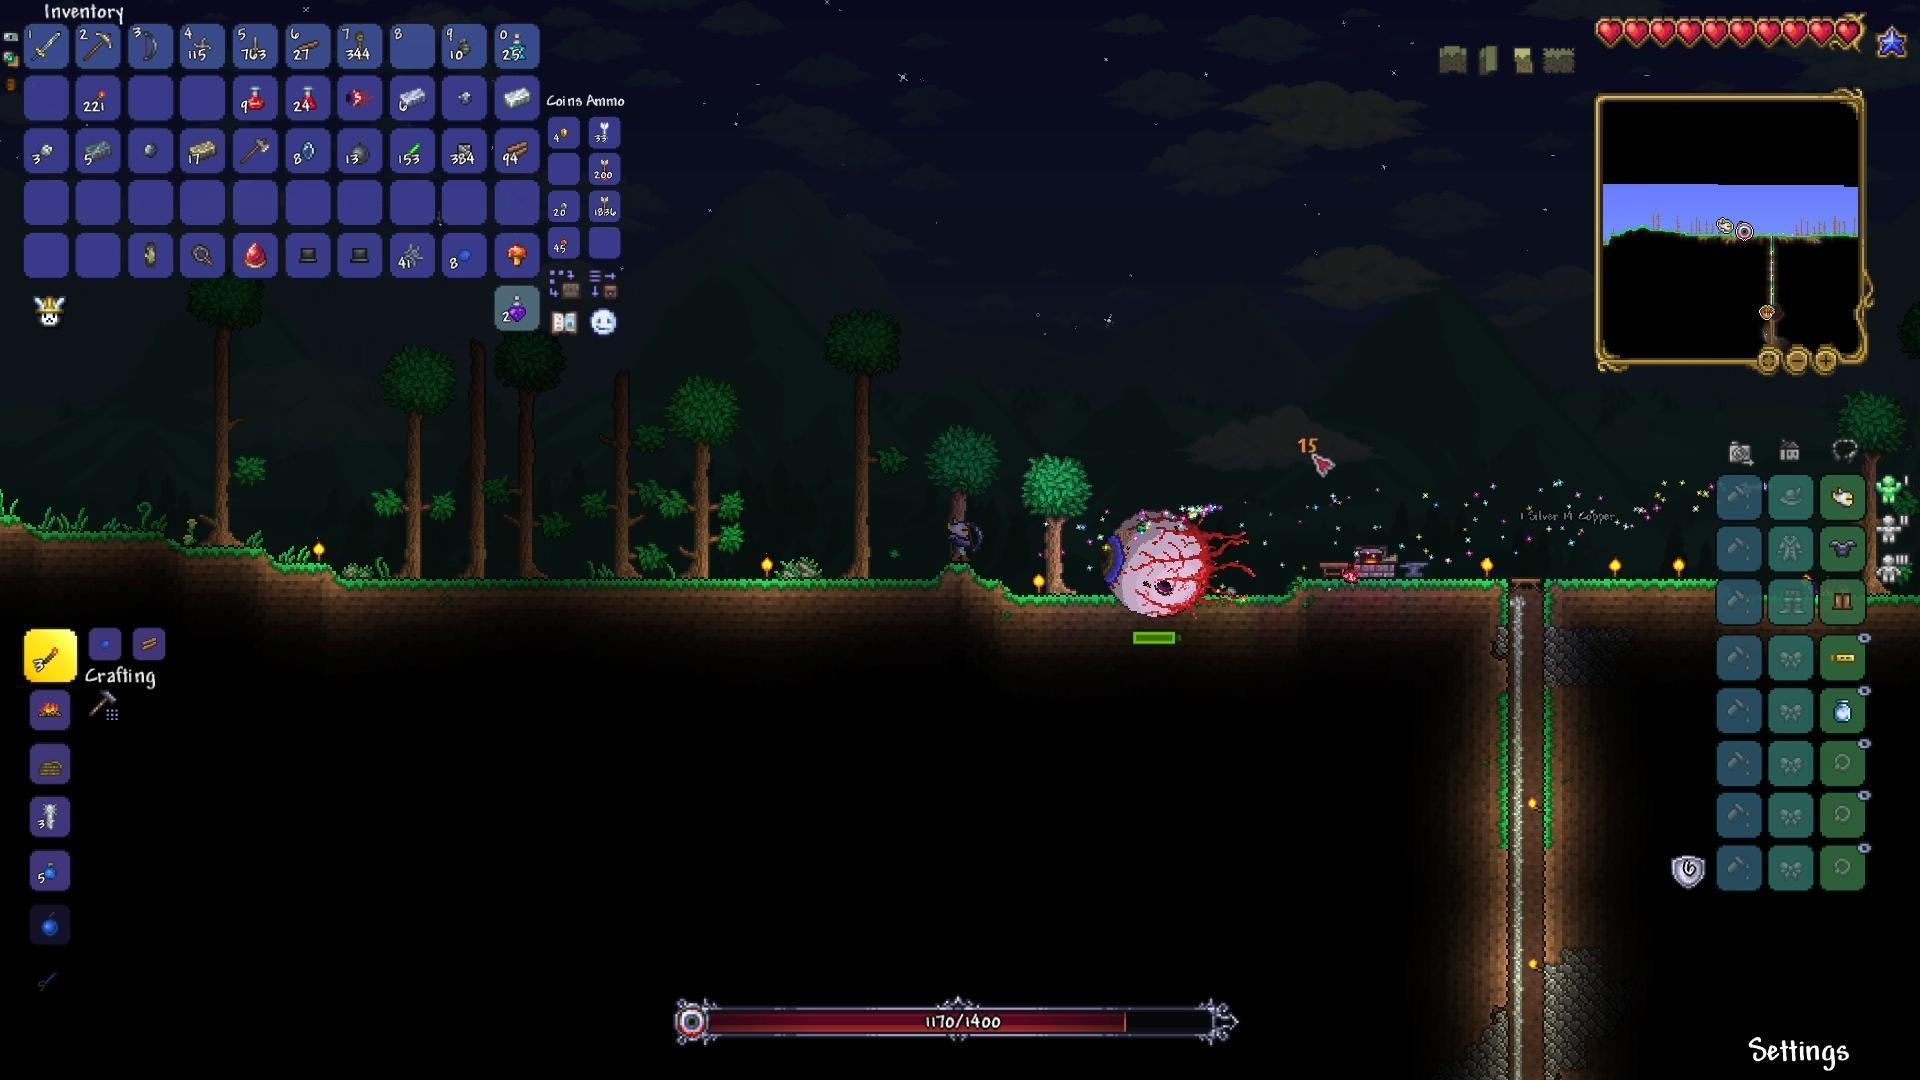eyeC: (1092, 505, 1258, 626)
